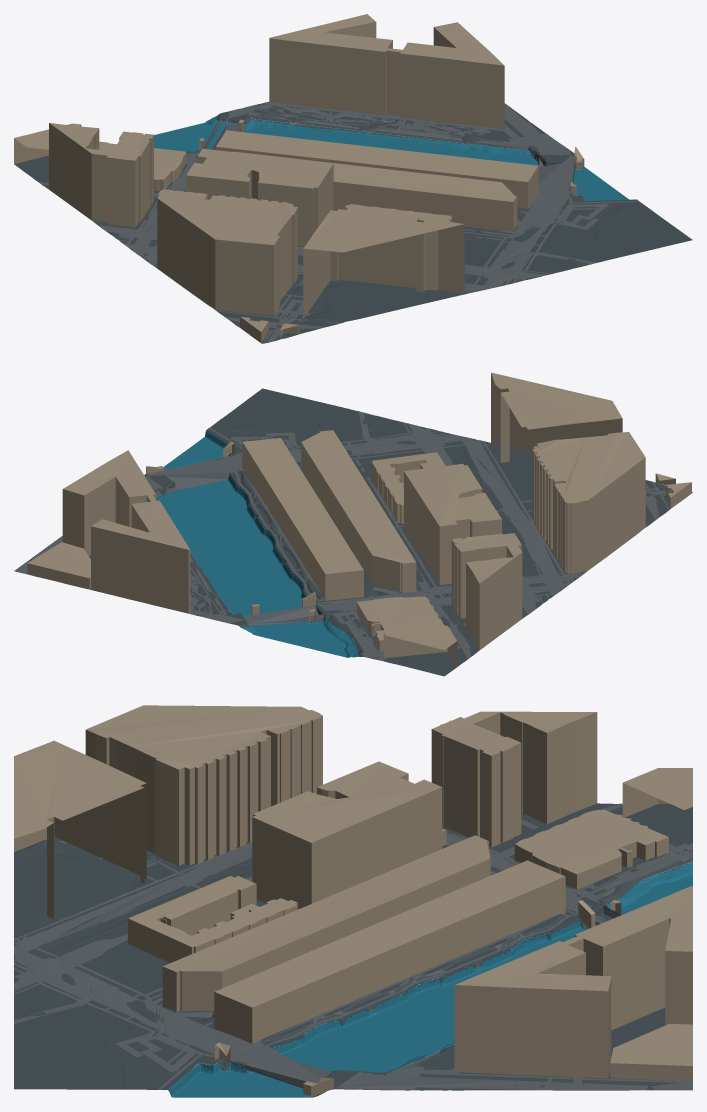
Rendered from epsg26910-1441-10888.lod0.glb.
3 views of the same model, one above another, from view 1: azimuth 30°, elevation 25°; view 2: azimuth 150°, elevation 25°; view 3: azimuth 270°, elevation 25° (orthographic). The views are drawn at different scales.
Visible parts, largest first — view 1: epsg26910-1441-10888-lod0; view 2: epsg26910-1441-10888-lod0; view 3: epsg26910-1441-10888-lod0.
Part boxes in pixels (x1,y1,x2,y2): epsg26910-1441-10888-lod0: (14, 14, 692, 343); epsg26910-1441-10888-lod0: (14, 372, 692, 676); epsg26910-1441-10888-lod0: (14, 705, 692, 1097).
Size of the model in its own units: 384 by 67.48 by 384.
